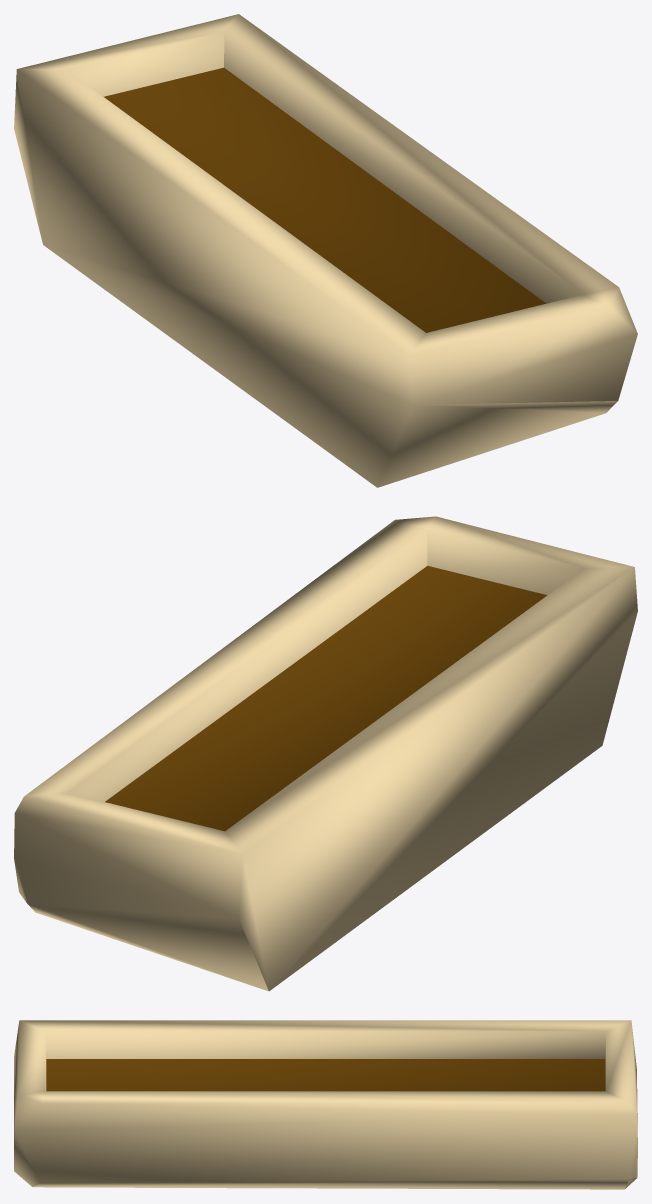
File: Module_Window_Planter_Long_01_LOD02.fbx
The picture shows the model from 3 angles, top to bottom: view 1: azimuth 30°, elevation 25°; view 2: azimuth 150°, elevation 25°; view 3: azimuth 270°, elevation 25°; orthographic projection. The views are drawn at different scales.
Visible parts, largest first — view 1: Module_Window_Planter_Long_01_LOD02_Geometry; view 2: Module_Window_Planter_Long_01_LOD02_Geometry; view 3: Module_Window_Planter_Long_01_LOD02_Geometry.
Boxes of the visible parts, <box> form: Module_Window_Planter_Long_01_LOD02_Geometry: <box>14,14,637,487</box>; Module_Window_Planter_Long_01_LOD02_Geometry: <box>14,516,637,991</box>; Module_Window_Planter_Long_01_LOD02_Geometry: <box>14,1020,637,1189</box>.
Size of the model in its own units: 0.6538 by 0.4416 by 2.
